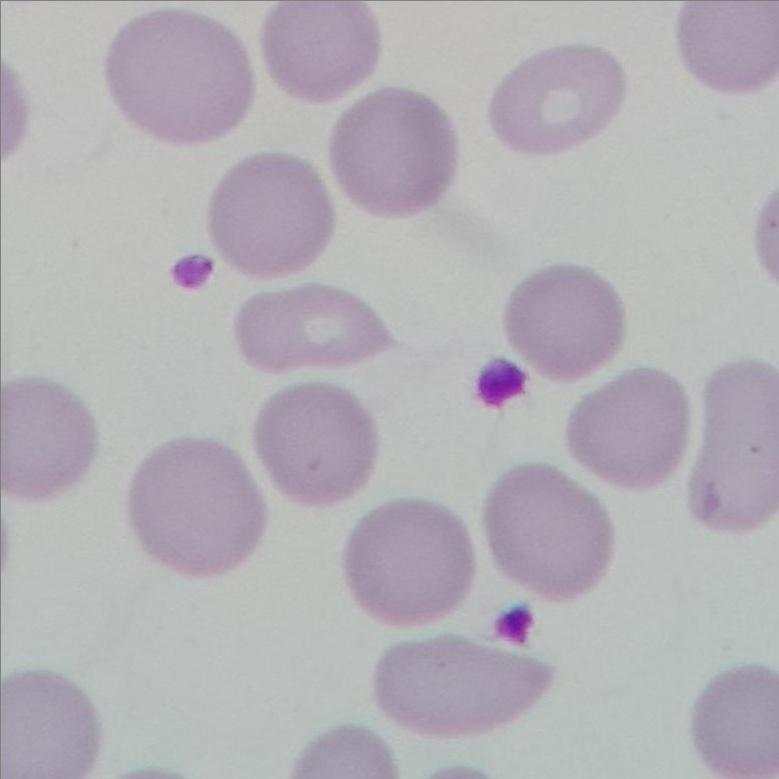Uninfected: (126, 437, 266, 580), (106, 13, 254, 143), (375, 634, 551, 738), (483, 463, 612, 602), (330, 89, 454, 220), (343, 501, 473, 625), (251, 382, 378, 508), (208, 153, 337, 277), (689, 358, 779, 533), (568, 367, 690, 492), (490, 45, 625, 154), (236, 282, 396, 373), (502, 264, 626, 380), (2, 379, 98, 502), (261, 0, 377, 100), (1, 671, 99, 779), (692, 666, 777, 777), (680, 4, 779, 92)
